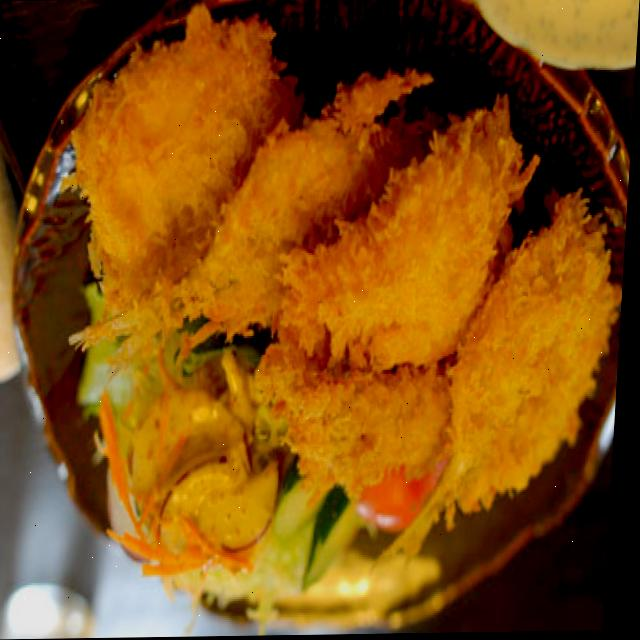炸货点心: (14, 0, 639, 466)
熟制海鲜: (14, 0, 639, 466)
